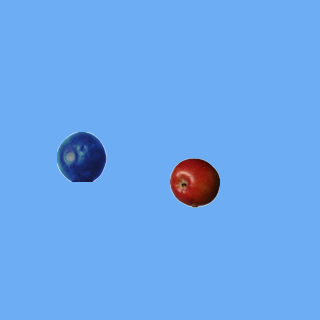Apple Braeburn: (169, 157, 219, 207)
Huckleberry: (56, 131, 106, 181)
